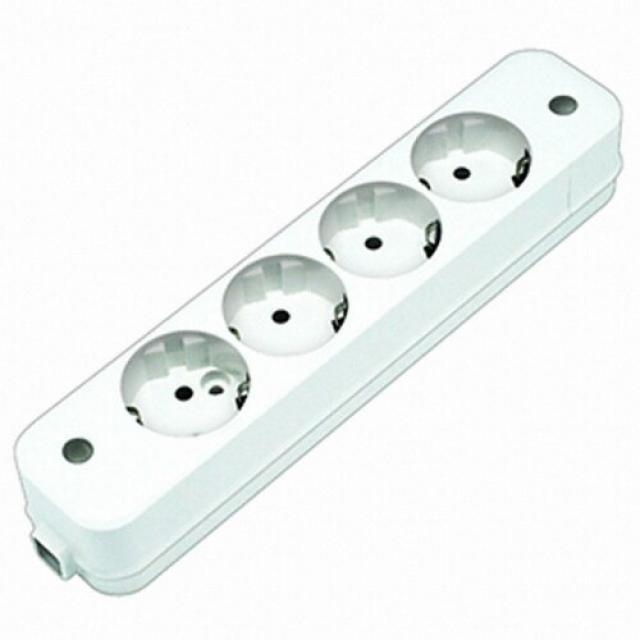typeb: (23, 38, 634, 578)
